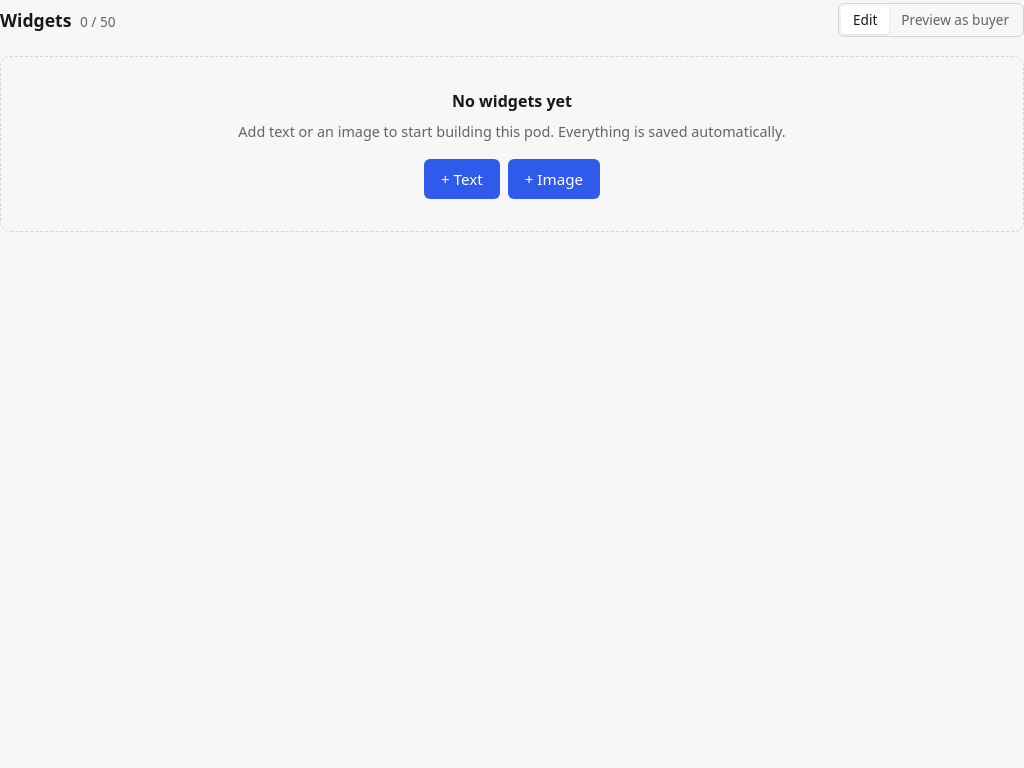
it: WidgetBoard › text widgets › adds multiple widgets, each in a bordered card of its own
Click the button "+ Text": (462, 179) [424,159,500,199]
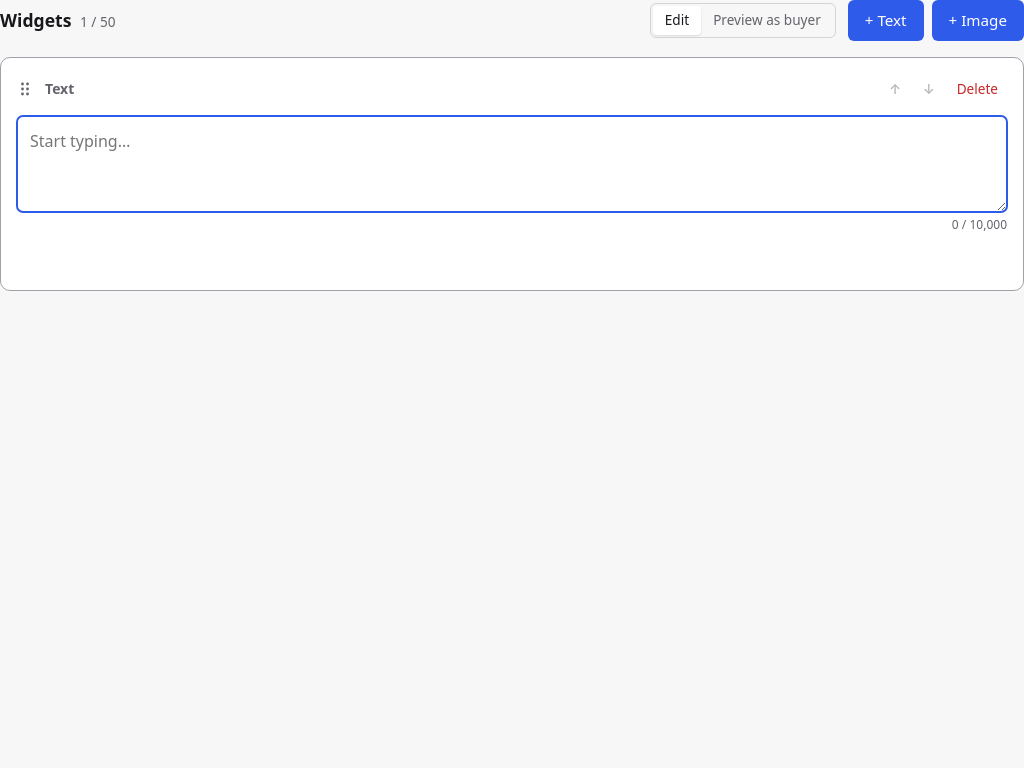
Click the button "+ Text": (886, 20) [848,0,924,41]
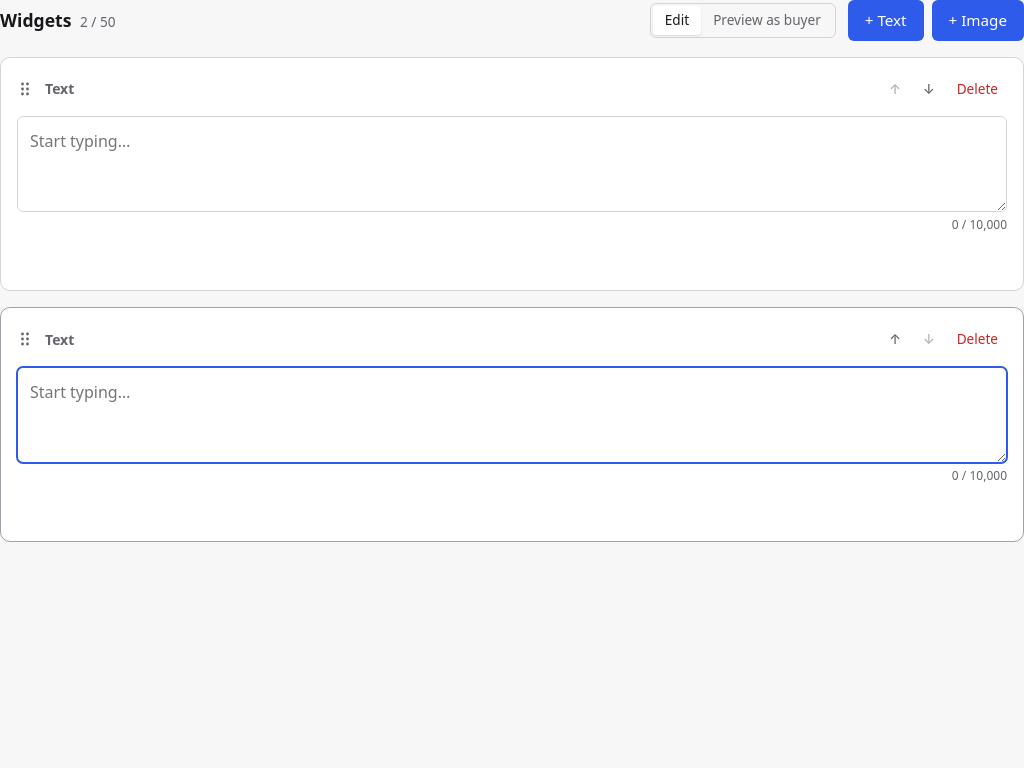
Click the button "+ Text": (886, 20) [848,0,924,41]
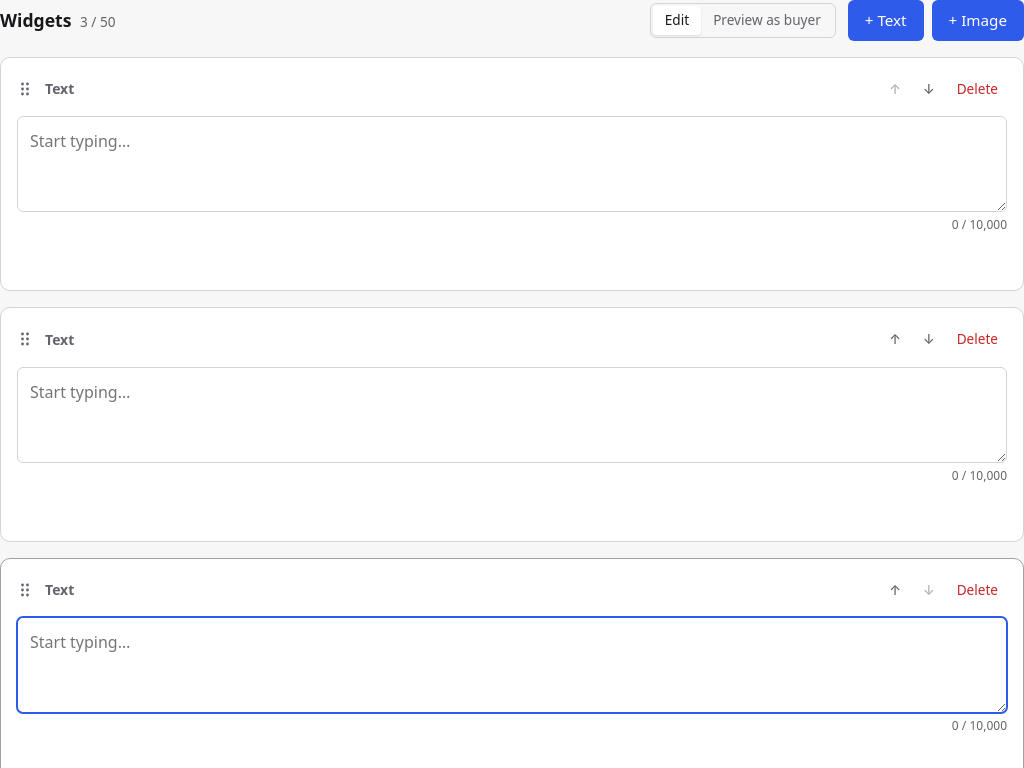
Check: the text "3 / 50" is shown, box [80,12,116,31]
